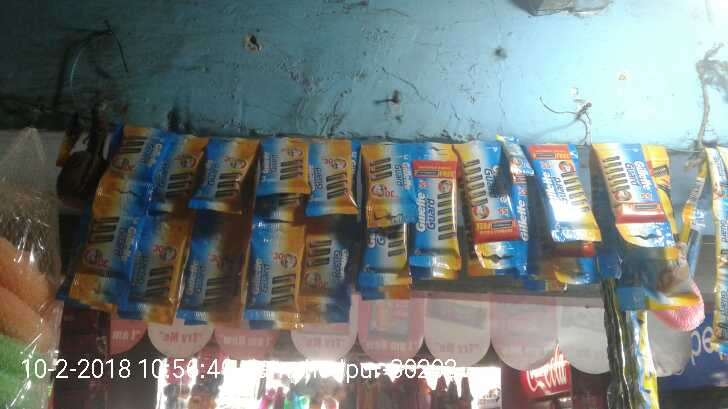gillette: (461, 147, 530, 281), (527, 146, 602, 248), (594, 140, 672, 227), (247, 218, 304, 331), (78, 200, 135, 310), (304, 216, 358, 328), (186, 220, 245, 320), (136, 213, 190, 316), (360, 142, 420, 232), (412, 152, 457, 268), (308, 134, 359, 217), (202, 135, 251, 216), (104, 124, 166, 185), (254, 136, 307, 196)
